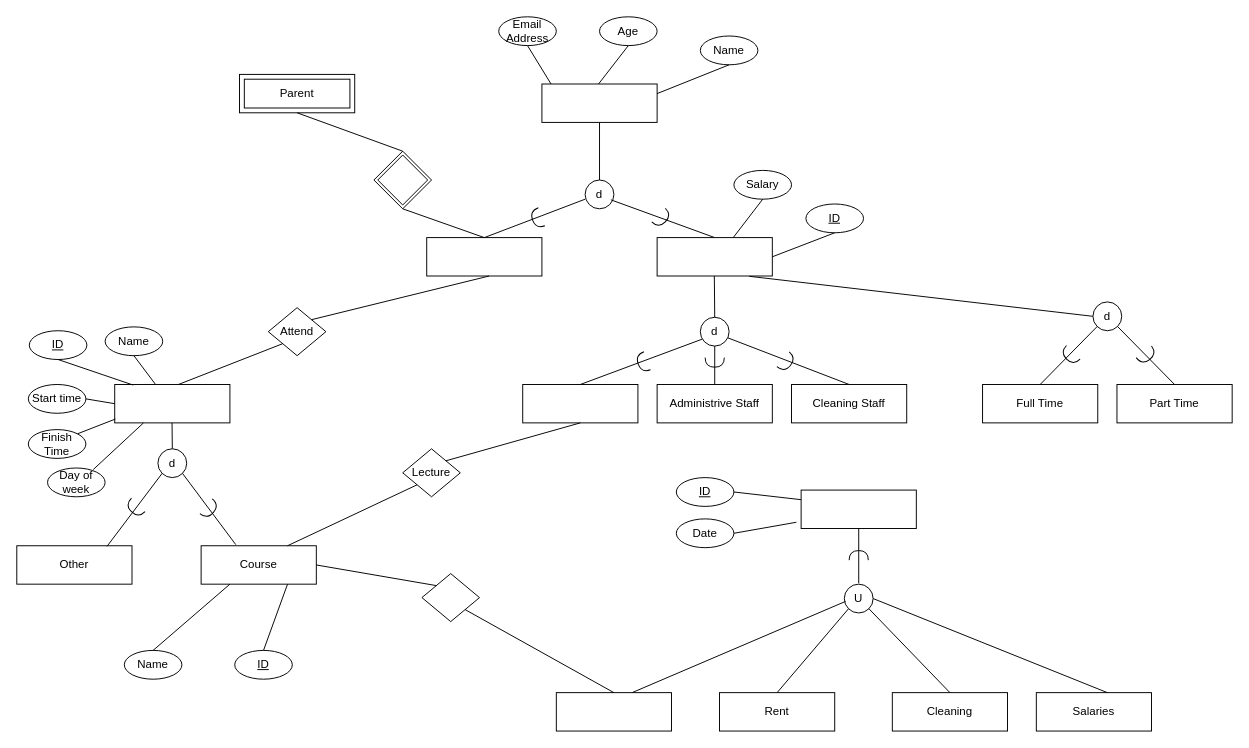
Some shapes in this 1249 by 748 pixel diagram are drawn without their labels. The centre of each missing label's shape, as x and y in pixels:
Activity: point (172, 403)
Employee: point (714, 256)
Expense: point (858, 508)
Has: point (402, 179)
Materials: point (613, 711)
Person: point (599, 102)
Student: point (484, 256)
Teacher: point (580, 403)
Uses: point (450, 597)
